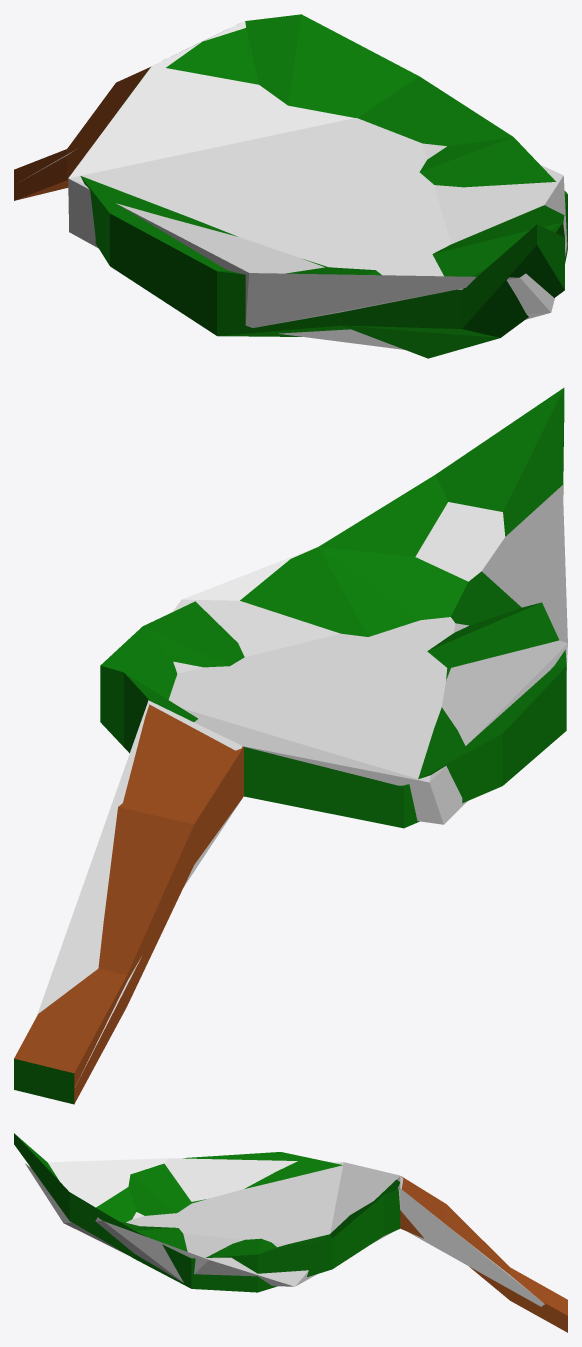
Rendered from buyuk_yaprak_1.fbx.
The picture shows the model from 3 angles, top to bottom: view 1: azimuth 30°, elevation 25°; view 2: azimuth 150°, elevation 25°; view 3: azimuth 270°, elevation 25°; orthographic projection. The views are drawn at different scales.
Visible parts, largest first — view 1: Cube.007, Cube.006; view 2: Cube.006, Cube.007; view 3: Cube.007, Cube.006.
Boxes of the visible parts, x1,y1,x2,y2 form: Cube.007: (24,20,567,349); Cube.006: (14,14,567,358); Cube.006: (14,388,566,1104); Cube.007: (36,485,567,1076); Cube.007: (25,1158,544,1306); Cube.006: (14,1133,567,1332).
Size of the model in its own units: 1.94 by 1.64 by 4.39.
